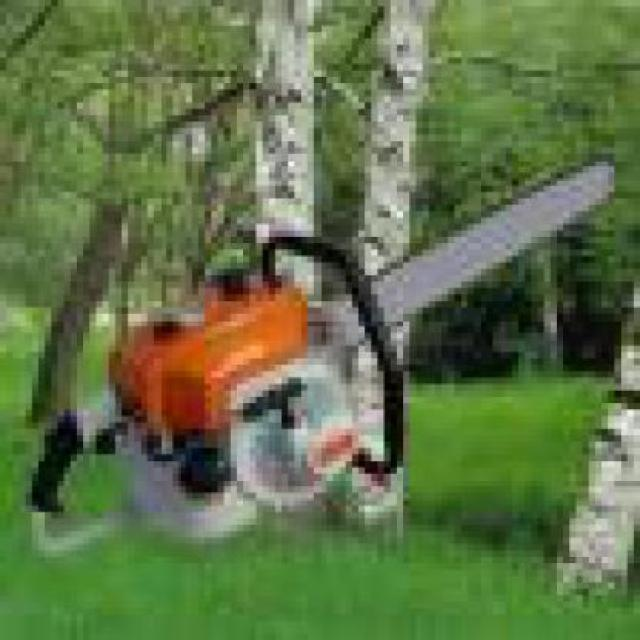Chainsaw: (25, 154, 628, 561)
